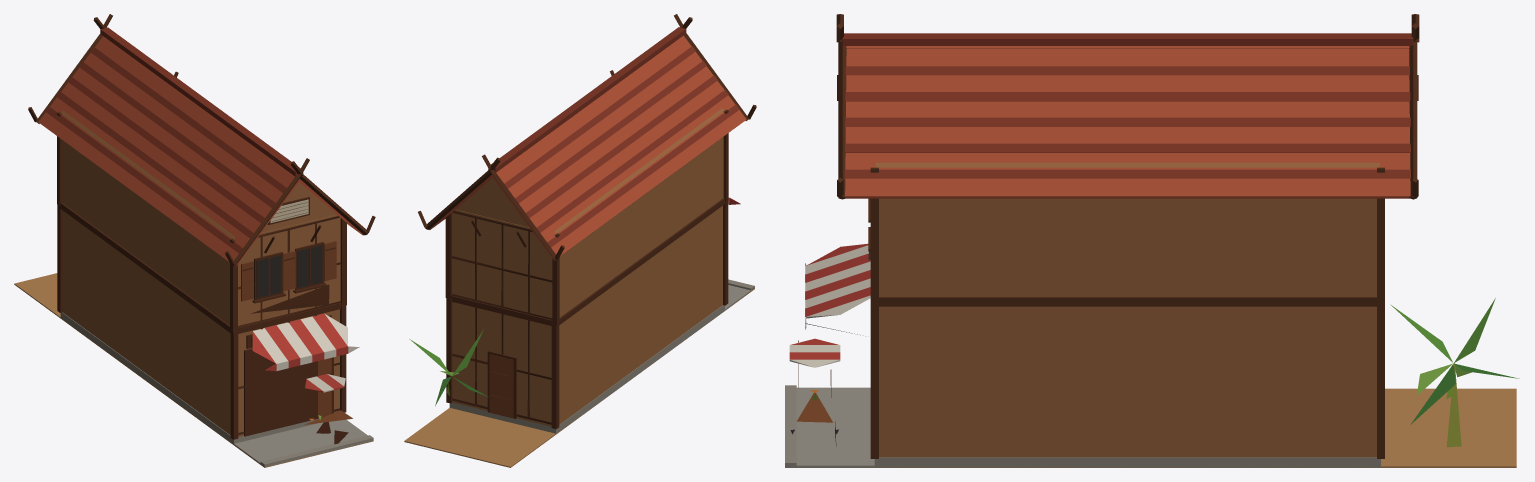
File: bay1_mid.glb
3 views of the same model, side by side, from view 1: azimuth 30°, elevation 25°; view 2: azimuth 150°, elevation 25°; view 3: azimuth 270°, elevation 25° (orthographic). The views are drawn at different scales.
Parts seen in each view (by area): view 1: body, windows; view 2: body; view 3: body.
Boxes of the visible parts, <box> form: body: <box>14,14,375,467</box>; windows: <box>256,245,322,297</box>; body: <box>404,14,756,467</box>; body: <box>785,14,1519,467</box>.
Bounding box in the file's own units: 5.53 × 9.86 × 15.99.
